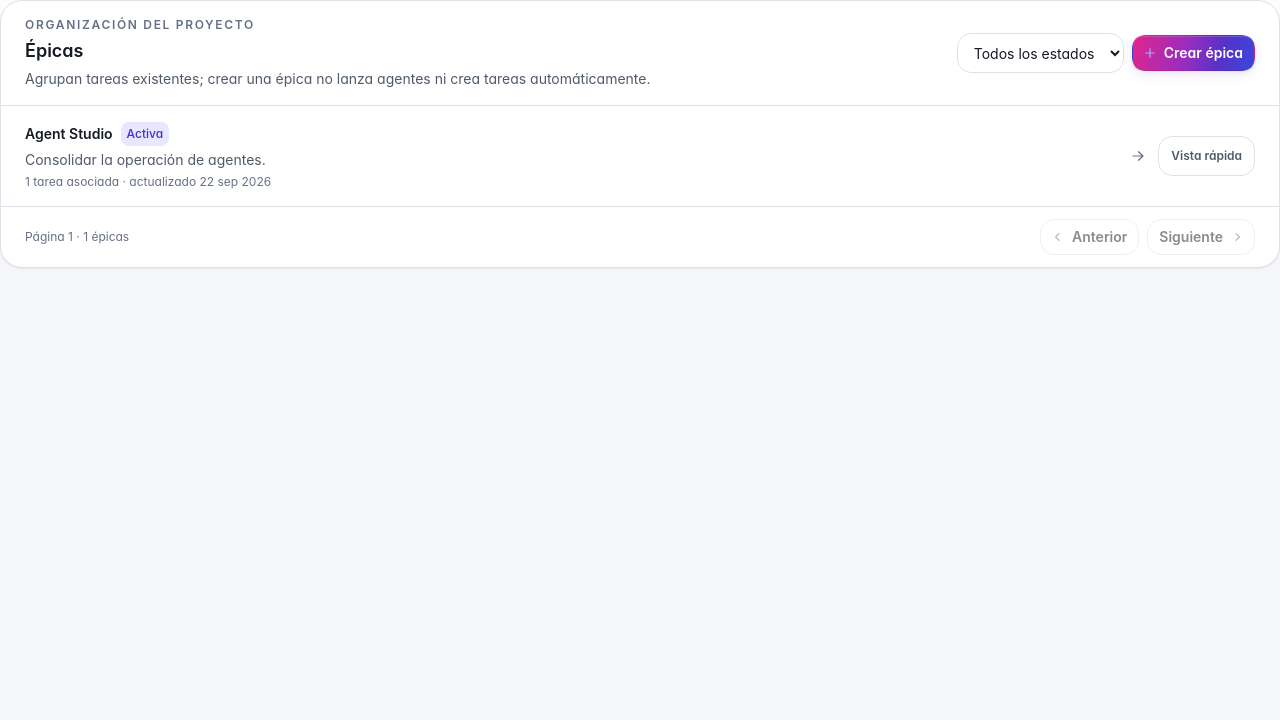
Scenario: project epics panel › renders first-class project epics and a safe paged detail without exposing task descriptions
Expected: the heading "Épicas" is shown, [25,40,84,61]
Expected: the link with aria-label "Ver página de épica: Agent Studio" shows "1 tarea asociada", [25,122,1146,190]
Step 1. Click the button with aria-label "Abrir vista rápida de épica: Agent Studio" → (1207, 156), box [1158,136,1255,176]
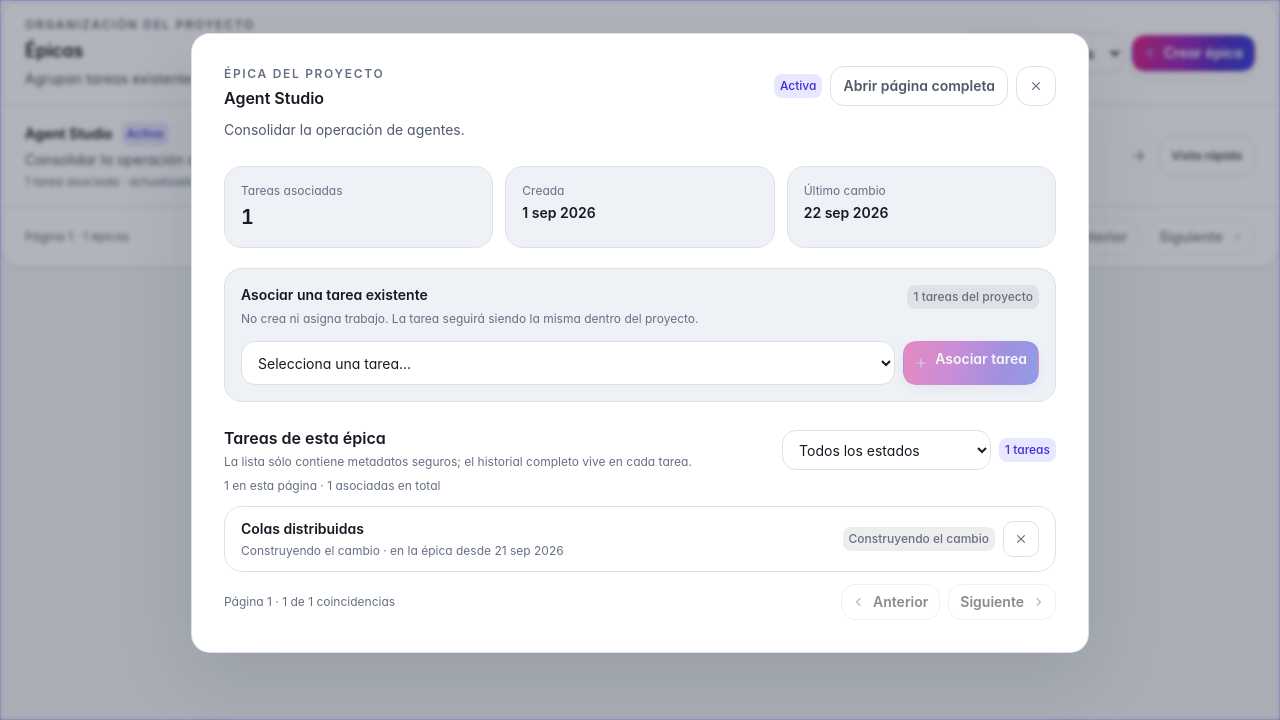
Expected: the heading "Tareas de esta épica" is shown, [224,428,386,448]
Expected: the button "Asociar tarea" is shown, [903,340,1039,384]
